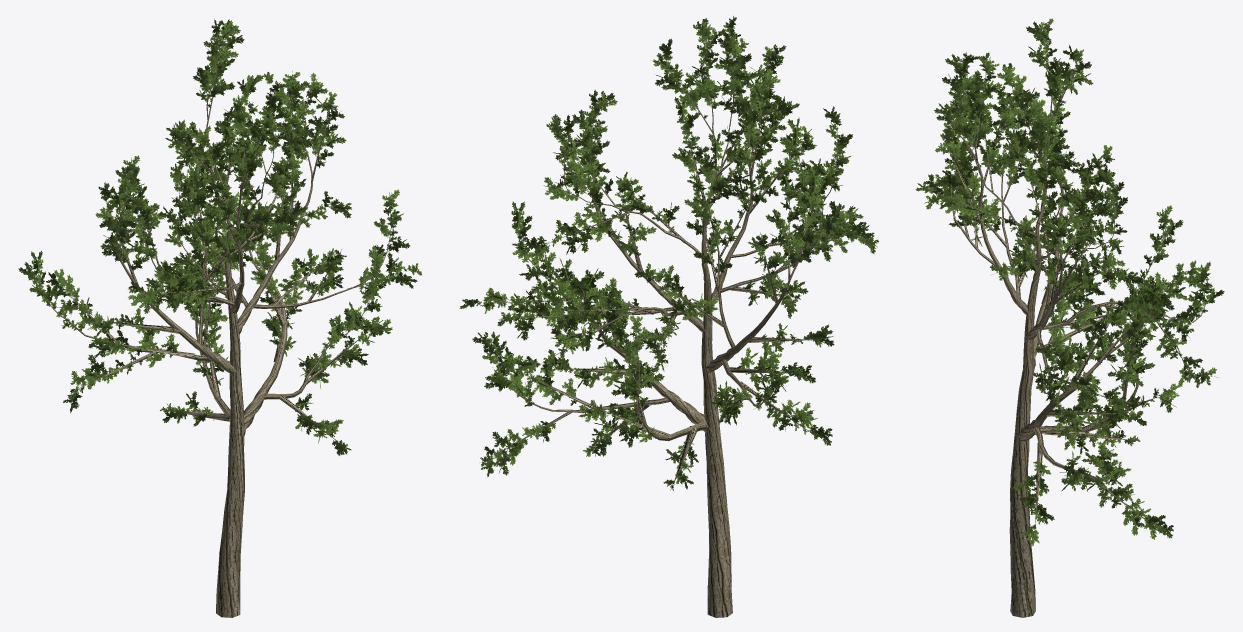
File: oak_small_01.glb
3 views of the same model, side by side, from view 1: azimuth 30°, elevation 25°; view 2: azimuth 150°, elevation 25°; view 3: azimuth 270°, elevation 25° (orthographic). The views are drawn at different scales.
Visible parts, largest first — view 1: Tree; view 2: Tree; view 3: Tree.
Part boxes in pixels (bbox=[...]): Tree: bbox=[18, 19, 422, 617]; Tree: bbox=[459, 16, 878, 617]; Tree: bbox=[915, 18, 1224, 617].
Bounding box in the file's own units: 33.34 × 50.87 × 24.29.
2 materials, 2 textured.
